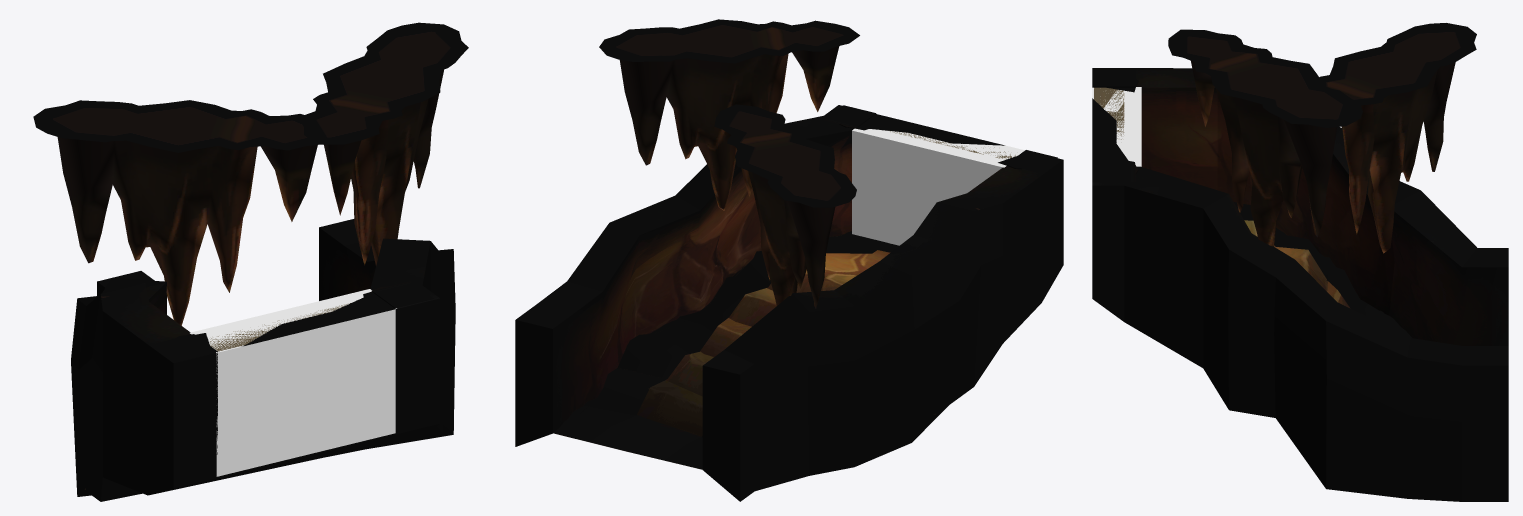
The model's file is Dungeon_011_GoalStep_003.fbx.
The picture shows the model from 3 angles, left to right: view 1: azimuth 30°, elevation 25°; view 2: azimuth 150°, elevation 25°; view 3: azimuth 270°, elevation 25°; orthographic projection. The views are drawn at different scales.
Parts seen in each view (by area): view 1: Dan1, Dungeon_011_Iwa004_1, DoorWay_NavMask (1), Dungeon_011_Iwa004_1 (1), Dun_011_Door_002_old, Dun_011_Door_003_WarpRoom, Dun_011_Door_002; view 2: Dan1, Dungeon_011_Iwa004_1 (1), Dungeon_011_Iwa004_1, DoorWay_NavMask (1), Dan1_shadow, Dan2, Dun_011_Door_002_old; view 3: Dan1, Dungeon_011_Iwa004_1 (1), Dungeon_011_Iwa004_1, Dun_011_Door_002_old, Dan1_shadow, DoorWay_NavMask (1), Dan2, Dun_011_Door_003_WarpRoom.
Boxes of the visible parts, <box> form: Dan1: <box>71,219,455,501</box>; Dungeon_011_Iwa004_1: <box>33,100,317,325</box>; DoorWay_NavMask (1): <box>190,289,396,476</box>; Dungeon_011_Iwa004_1 (1): <box>299,22,468,265</box>; Dun_011_Door_002_old: <box>156,281,433,360</box>; Dun_011_Door_003_WarpRoom: <box>210,303,350,351</box>; Dun_011_Door_002: <box>158,282,431,477</box>; Dan1: <box>515,105,1063,501</box>; Dungeon_011_Iwa004_1 (1): <box>599,19,859,210</box>; Dungeon_011_Iwa004_1: <box>714,104,856,308</box>; DoorWay_NavMask (1): <box>852,128,1024,245</box>; Dan1_shadow: <box>553,231,887,468</box>; Dan2: <box>553,250,935,469</box>; Dun_011_Door_002_old: <box>824,105,1057,172</box>; Dan1: <box>1092,68,1508,501</box>; Dungeon_011_Iwa004_1 (1): <box>1168,29,1362,246</box>; Dungeon_011_Iwa004_1: <box>1319,23,1476,253</box>; Dun_011_Door_002_old: <box>1092,70,1135,182</box>; Dan1_shadow: <box>1234,202,1412,338</box>; DoorWay_NavMask (1): <box>1092,87,1141,166</box>; Dan2: <box>1244,220,1350,308</box>; Dun_011_Door_003_WarpRoom: <box>1094,87,1124,139</box>.
Size of what is drawn, in the model's own units: 7.31 by 6.63 by 6.73.
